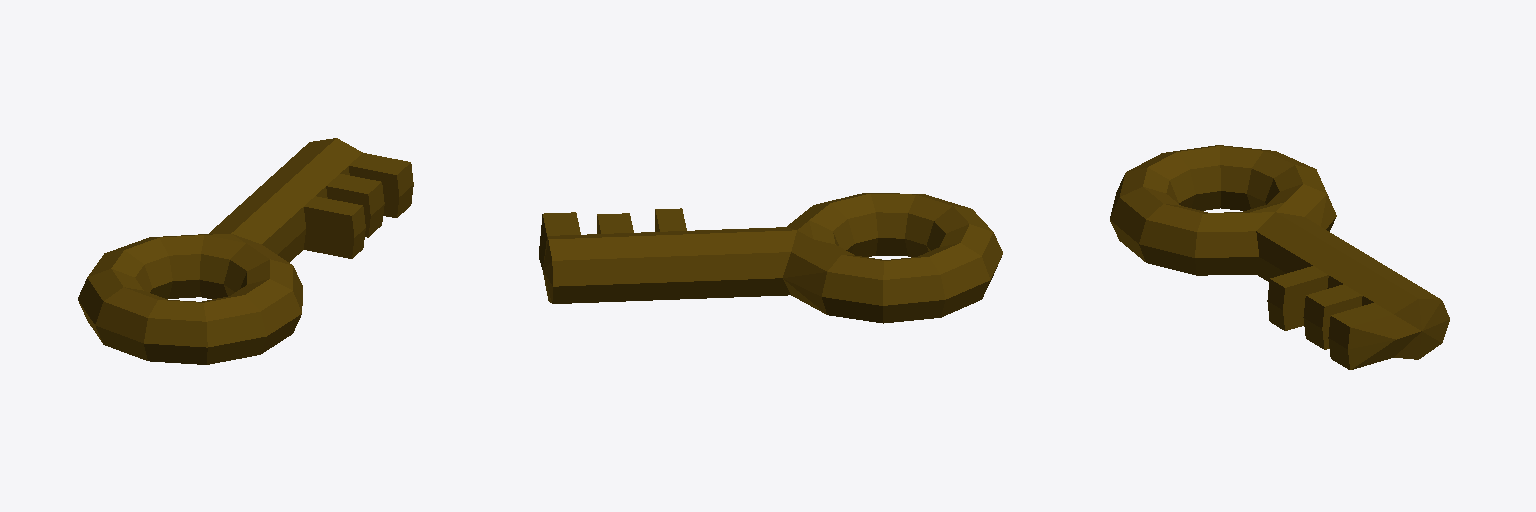
The model's file is key.obj.
3 views of the same model, side by side, from view 1: azimuth 30°, elevation 25°; view 2: azimuth 150°, elevation 25°; view 3: azimuth 270°, elevation 25° (orthographic).
Parts seen in each view (by area): view 1: Torus.011_Torus.009; view 2: Torus.011_Torus.009; view 3: Torus.011_Torus.009.
Part boxes in pixels (bbox=[...]): Torus.011_Torus.009: bbox=[78, 138, 413, 364]; Torus.011_Torus.009: bbox=[539, 193, 1002, 323]; Torus.011_Torus.009: bbox=[1110, 145, 1449, 369].
Bounding box in the file's own units: 20.32 × 3.1 × 15.63.